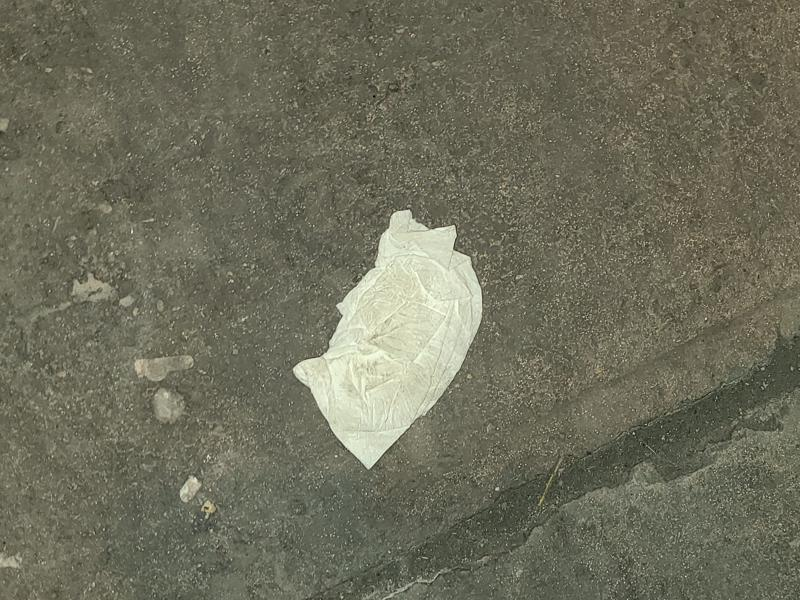papel: (291, 211, 485, 470)
